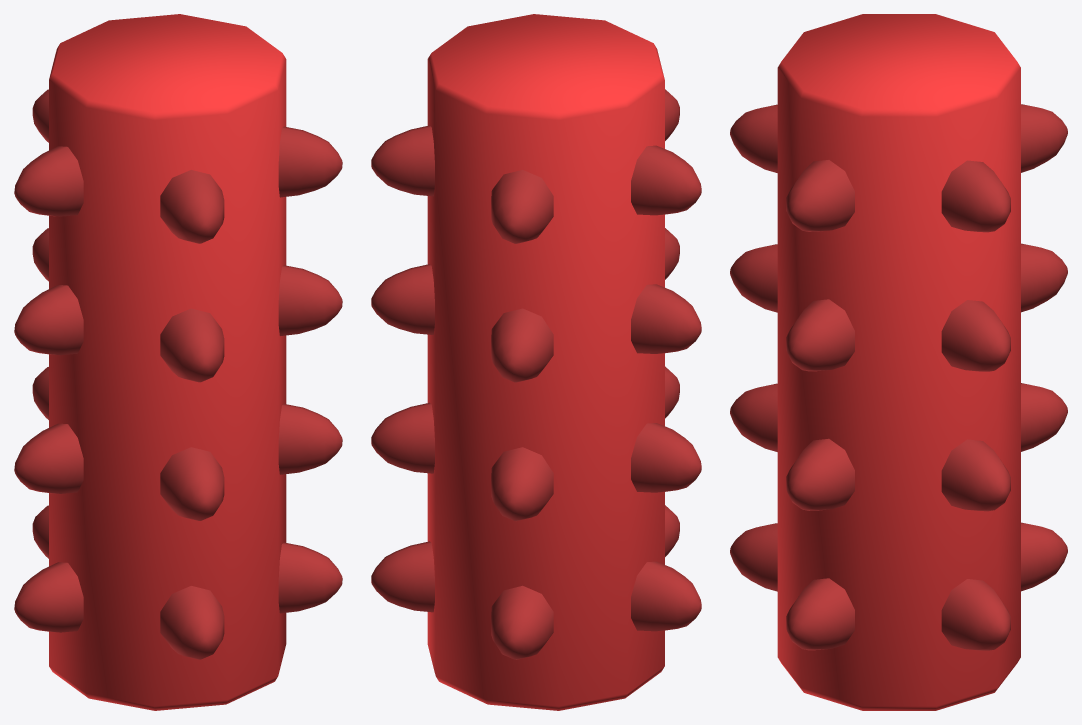
File: Cylinder-with-thorns.fbx
3 views of the same model, side by side, from view 1: azimuth 30°, elevation 25°; view 2: azimuth 150°, elevation 25°; view 3: azimuth 270°, elevation 25° (orthographic).
Visible parts, largest first — view 1: Cylinder-with-thorns; view 2: Cylinder-with-thorns; view 3: Cylinder-with-thorns.
Boxes of the visible parts, bbox=[...] form: Cylinder-with-thorns: bbox=[14, 14, 342, 710]; Cylinder-with-thorns: bbox=[371, 14, 701, 710]; Cylinder-with-thorns: bbox=[730, 14, 1067, 710].
Size of the model in its own units: 2.85 by 5.87 by 2.99.
